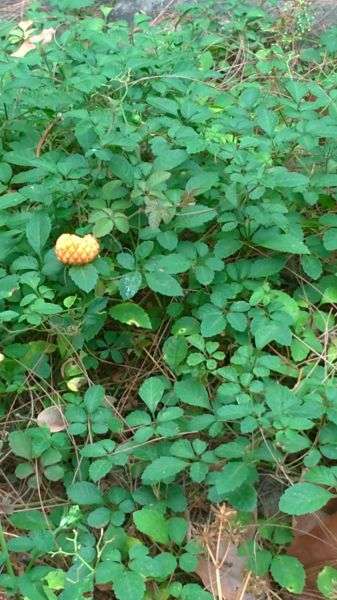eggs: (52, 228, 102, 271)
